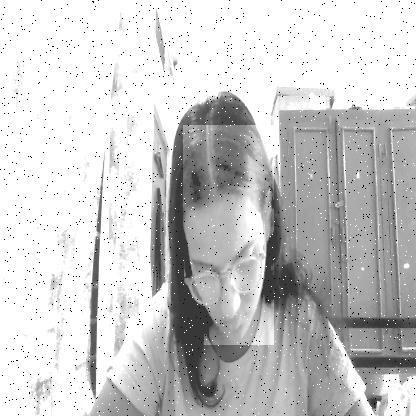Distracted: (183, 125, 274, 345)
